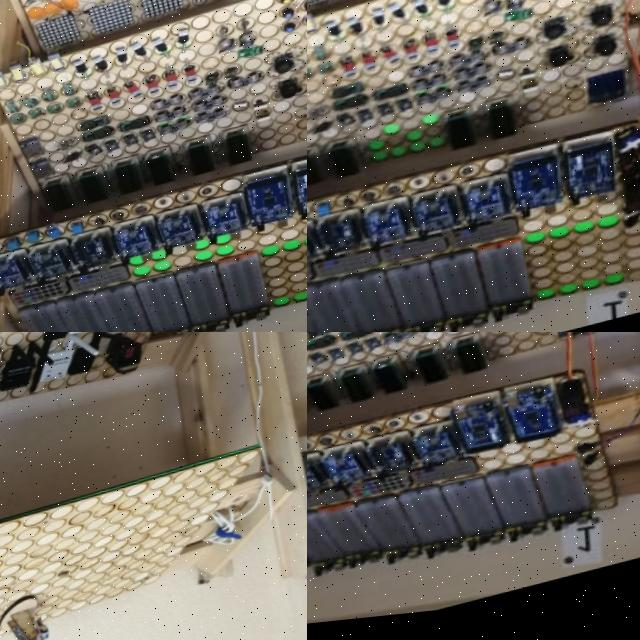Green-circles: (547, 280, 639, 313), (377, 141, 455, 171), (136, 252, 188, 289), (201, 236, 247, 277), (264, 236, 307, 276), (579, 222, 630, 250), (533, 231, 583, 259), (285, 287, 307, 318), (375, 142, 398, 159), (391, 127, 411, 146), (429, 118, 449, 135), (413, 134, 434, 150)
